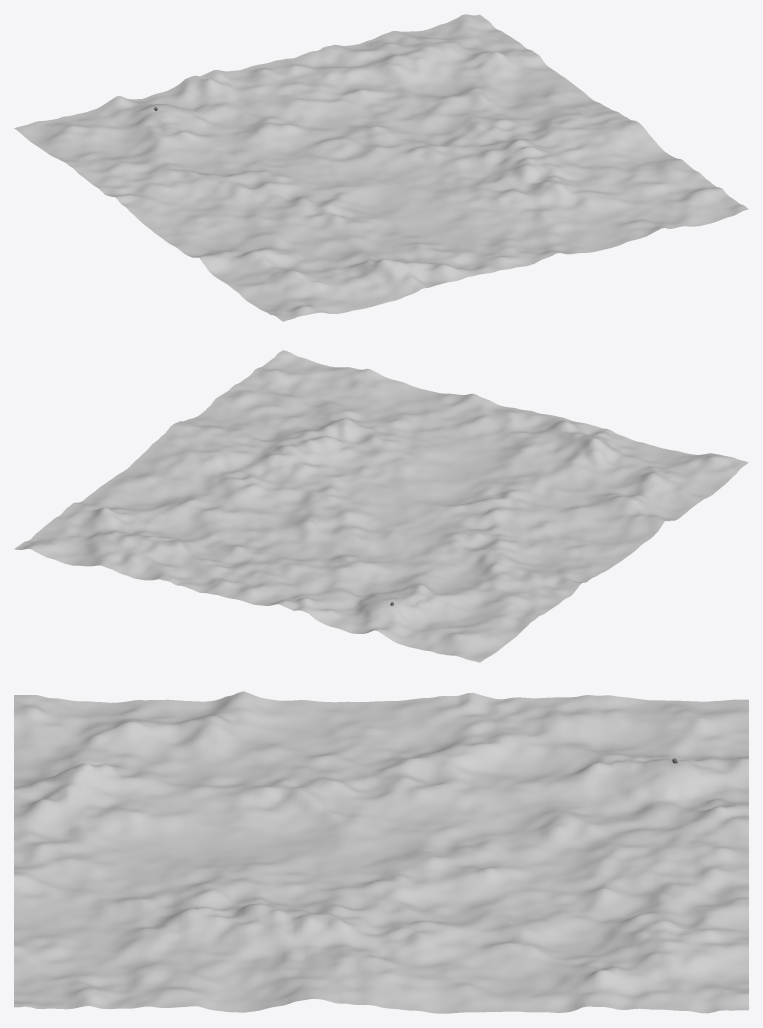
The model's file is mando_405.gltf.
3 renders of one model, top to bottom at view 1: azimuth 30°, elevation 25°; view 2: azimuth 150°, elevation 25°; view 3: azimuth 270°, elevation 25°, orthographic. The views are drawn at different scales.
Visible parts, largest first — view 1: Landscape.002; view 2: Landscape.002; view 3: Landscape.002.
Part boxes in pixels (x1,y1,x2,y2): Landscape.002: (14,14,748,321); Landscape.002: (14,350,748,662); Landscape.002: (14,691,748,1013).
Size of the model in its own units: 985 by 39.49 by 985.
